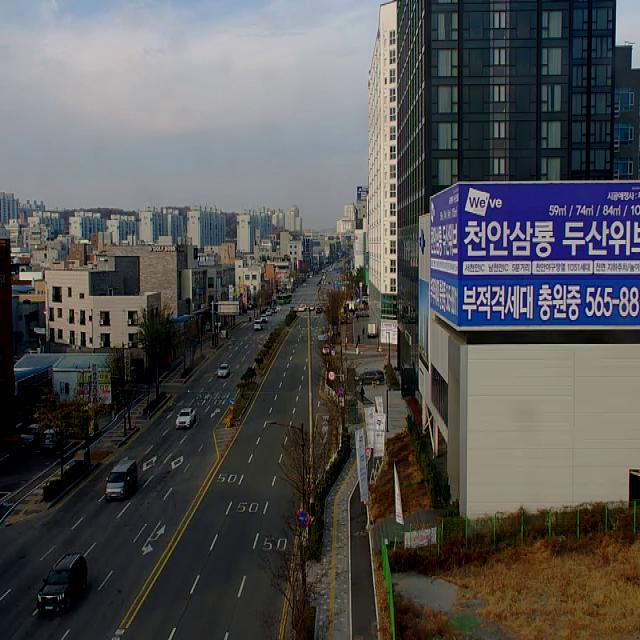Bus: (278, 293, 292, 304)
Car: (37, 552, 87, 615), (105, 460, 138, 502), (17, 424, 40, 450), (355, 368, 385, 384), (176, 408, 196, 429), (218, 364, 230, 377), (254, 320, 264, 330), (260, 314, 268, 323), (266, 309, 272, 316), (309, 304, 315, 310)
Truck: (40, 427, 66, 451), (368, 319, 379, 336)
